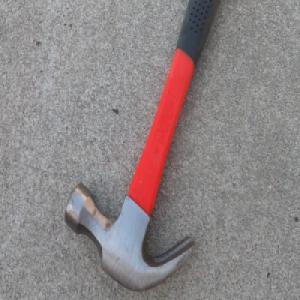Hammer: (63, 0, 222, 294)
